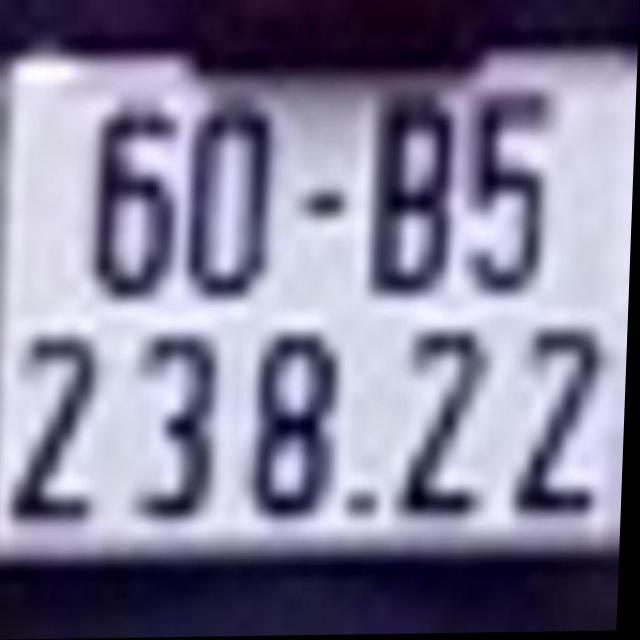0: (180, 103, 279, 305)
2: (499, 317, 610, 517), (2, 321, 110, 521), (397, 314, 494, 526)
3: (131, 317, 225, 522)
5: (462, 82, 558, 300)
6: (87, 104, 184, 298)
8: (247, 323, 347, 525)
B: (366, 89, 465, 301)
